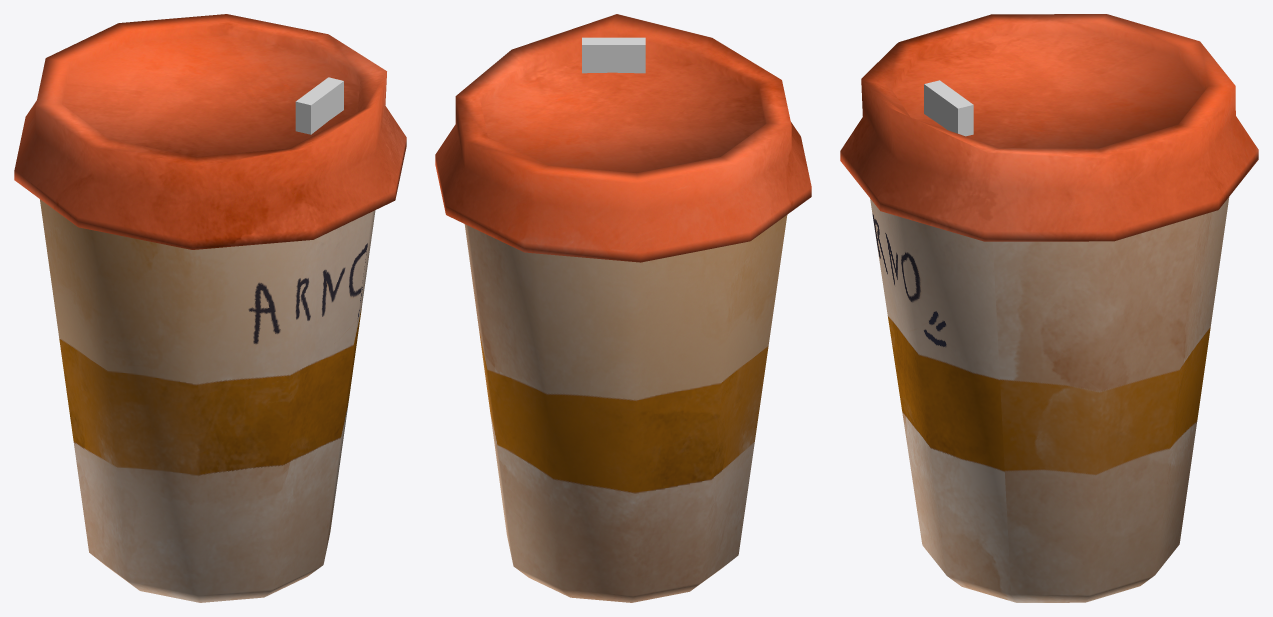
File: gobelet_carton-model.glb
3 renders of one model, left to right at view 1: azimuth 30°, elevation 25°; view 2: azimuth 150°, elevation 25°; view 3: azimuth 270°, elevation 25°, orthographic. The views are drawn at different scales.
Visible parts, largest first — view 1: Cylinder, Cube; view 2: Cylinder, Cube; view 3: Cylinder, Cube.
Part boxes in pixels (x1,y1,x2,y2): Cylinder: [14, 14, 406, 602]; Cube: [295, 77, 343, 134]; Cylinder: [435, 14, 811, 602]; Cube: [582, 37, 645, 73]; Cylinder: [840, 14, 1258, 602]; Cube: [924, 80, 973, 136].
Bounding box in the file's own units: 2.48 × 3.52 × 2.69.
1 material, 1 textured.
